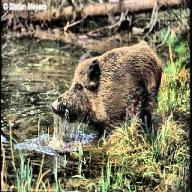boar: (51, 40, 163, 140)
